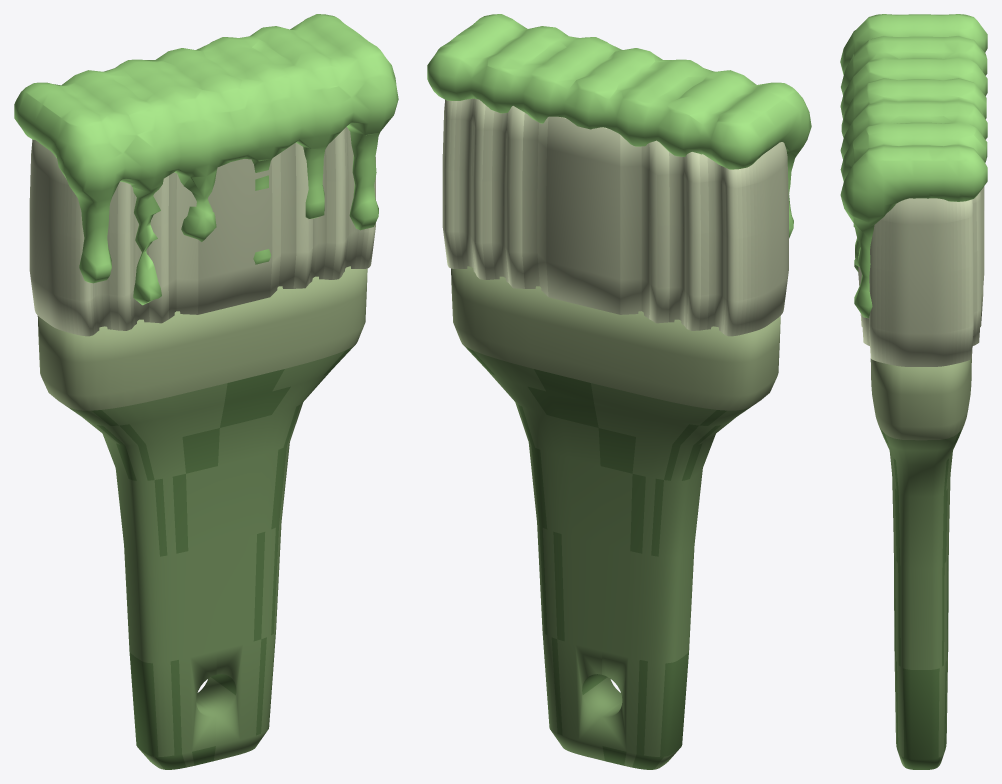
Rendered from Paintbrush_Frog.glb.
3 views of the same model, side by side, from view 1: azimuth 30°, elevation 25°; view 2: azimuth 150°, elevation 25°; view 3: azimuth 270°, elevation 25° (orthographic). The views are drawn at different scales.
Visible parts, largest first — view 1: Body, Paint, Bristles; view 2: Body, Bristles, Paint; view 3: Paint, Body, Bristles.
Boxes of the visible parts, <box> form: Body: <box>37,266,367,769</box>; Paint: <box>14,14,398,305</box>; Bristles: <box>29,127,375,336</box>; Body: <box>451,266,780,769</box>; Bristles: <box>442,98,788,336</box>; Paint: <box>427,14,811,238</box>; Paint: <box>840,14,987,318</box>; Body: <box>870,358,971,769</box>; Bristles: <box>858,186,984,366</box>.
Bounding box in the file's own units: 1.23 × 2.44 × 0.4919.
